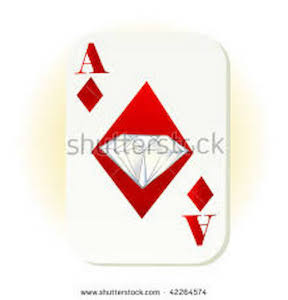AceOfDiamonds: (62, 28, 235, 267)
